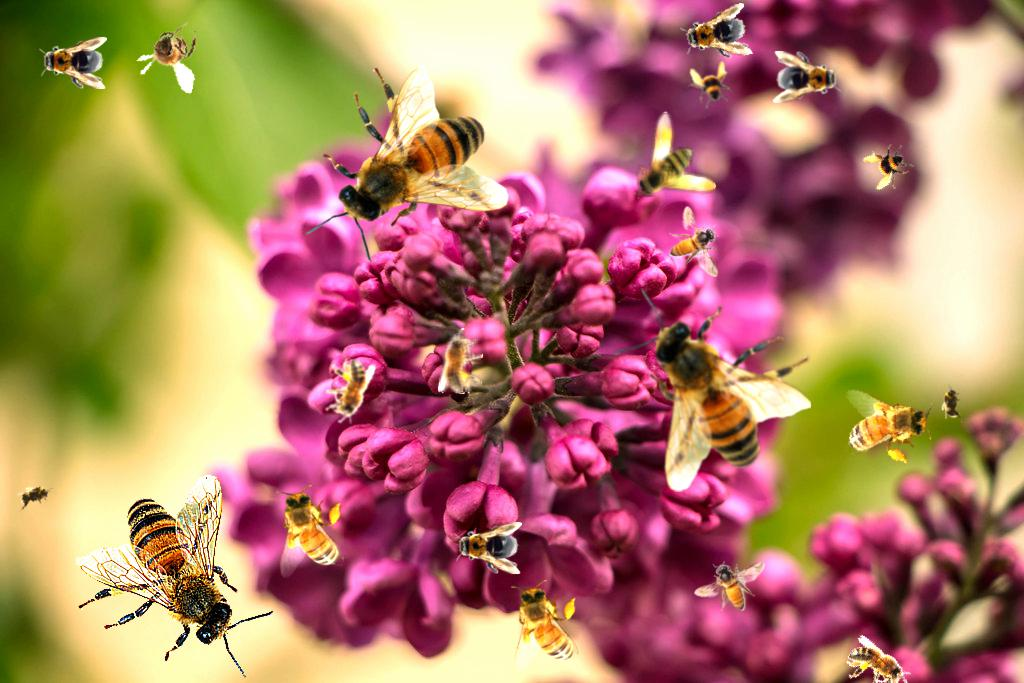Bee: (76, 474, 275, 678), (612, 288, 811, 492), (305, 65, 509, 264), (833, 383, 939, 472), (634, 111, 716, 199), (511, 580, 579, 673), (276, 485, 344, 578), (131, 12, 208, 94), (677, 2, 755, 68), (319, 354, 377, 429), (839, 633, 919, 683), (858, 136, 920, 198), (694, 561, 765, 611), (669, 206, 719, 277), (454, 522, 522, 574), (39, 37, 107, 89), (773, 51, 841, 103), (682, 57, 738, 113), (438, 328, 483, 394), (12, 479, 58, 513), (941, 383, 963, 423)
